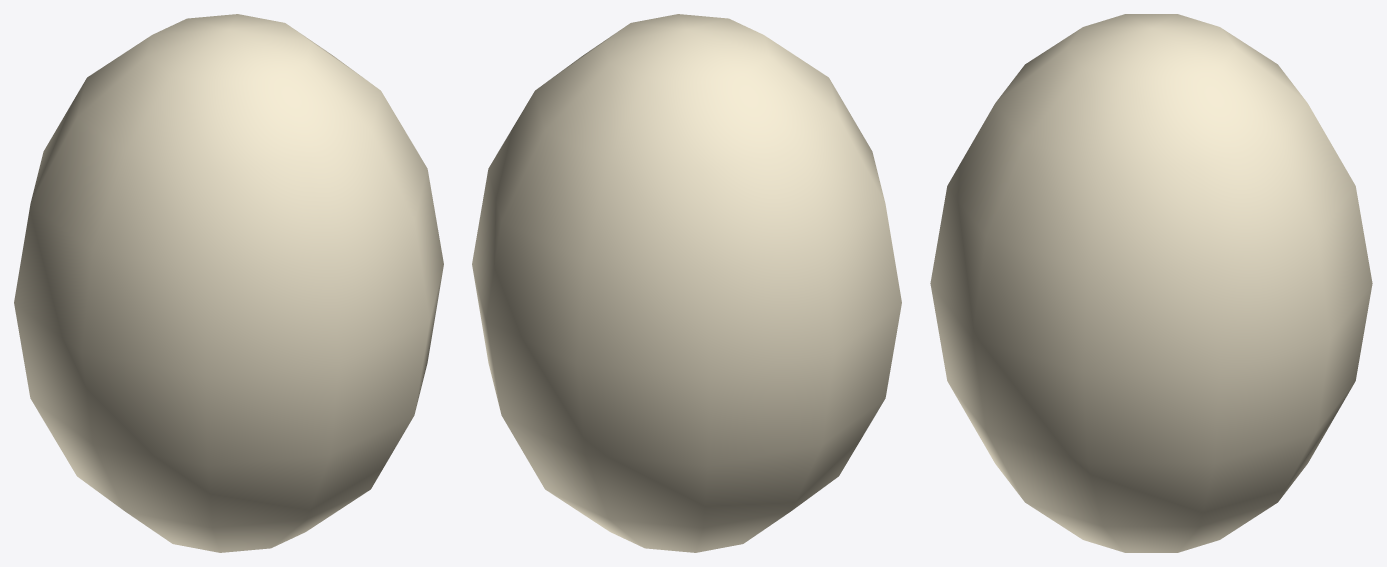
The model's file is Egg.glb.
The picture shows the model from 3 angles, left to right: view 1: azimuth 30°, elevation 25°; view 2: azimuth 150°, elevation 25°; view 3: azimuth 270°, elevation 25°; orthographic projection.
Parts seen in each view (by area): view 1: Egg; view 2: Egg; view 3: Egg.
Part boxes in pixels (bbox=[...]): Egg: bbox=[14, 14, 443, 552]; Egg: bbox=[472, 14, 901, 552]; Egg: bbox=[930, 14, 1372, 552].
Bounding box in the file's own units: 1.9 × 2.54 × 2.
